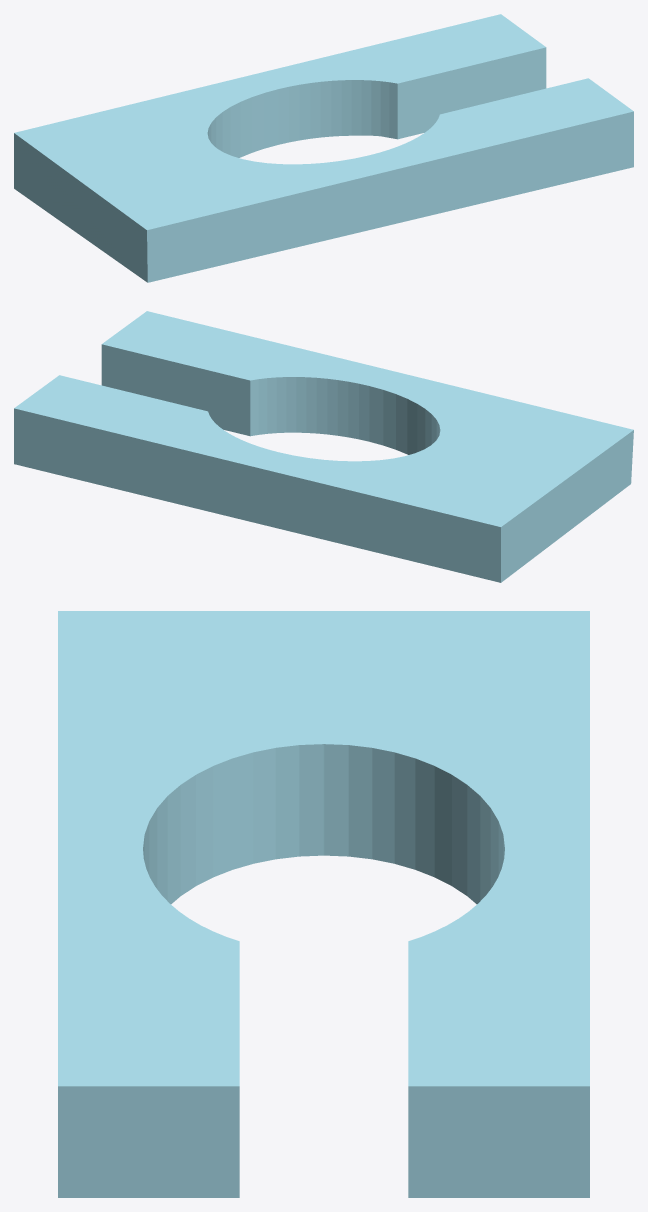
File: cala-3D-transparent(bleu-clair).glb
3 views of the same model, one above another, from view 1: azimuth 30°, elevation 25°; view 2: azimuth 150°, elevation 25°; view 3: azimuth 270°, elevation 25° (orthographic). The views are drawn at different scales.
Parts seen in each view (by area): view 1: Curve; view 2: Curve; view 3: Curve.
Boxes of the visible parts, x1,y1,x2,y2 form: Curve: [14, 14, 633, 282]; Curve: [14, 311, 633, 582]; Curve: [58, 611, 589, 1197].
Size of the model in its own units: 0.0459 by 0.00502 by 0.0217.
